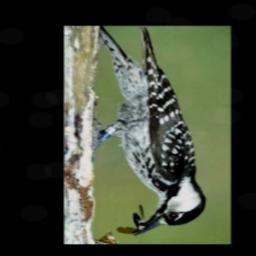Woodpecker: (91, 27, 205, 238)
